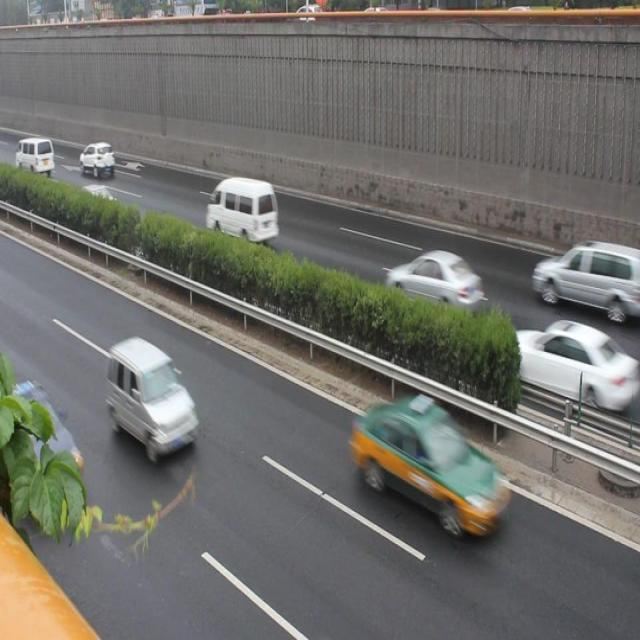car: (347, 390, 510, 539), (500, 320, 630, 412), (102, 337, 198, 458), (1, 380, 87, 498), (386, 243, 486, 322)
truck: (530, 237, 640, 325), (204, 177, 284, 254)
